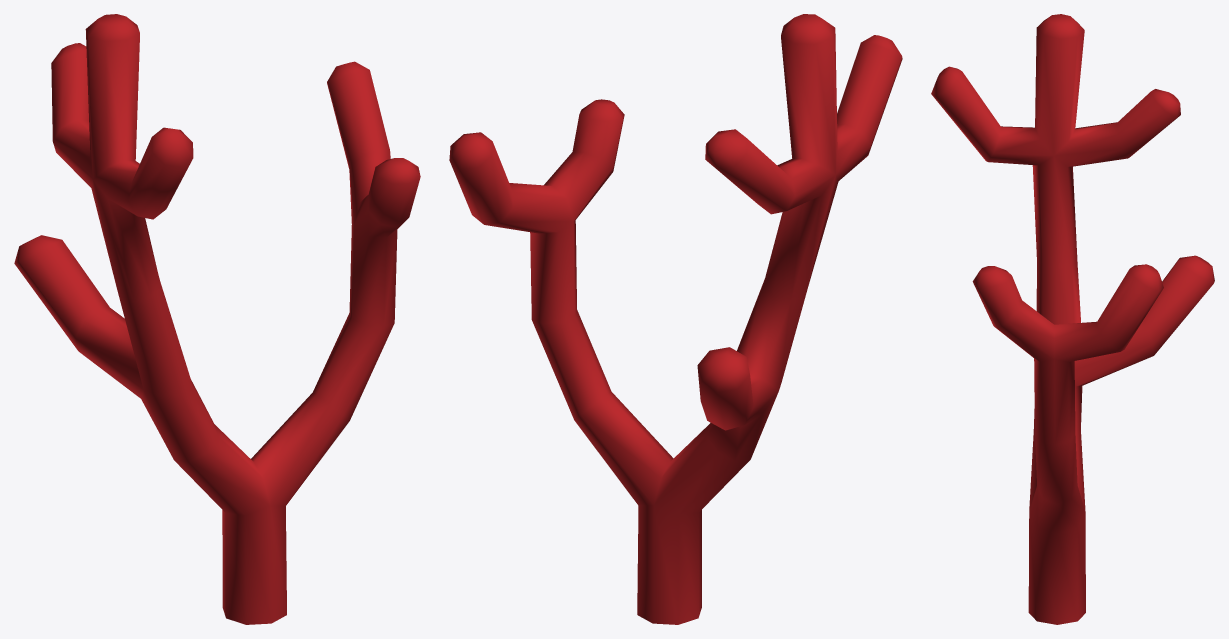
The model's file is Sea_plant_1_5.fbx.
The picture shows the model from 3 angles, left to right: view 1: azimuth 30°, elevation 25°; view 2: azimuth 150°, elevation 25°; view 3: azimuth 270°, elevation 25°; orthographic projection. The views are drawn at different scales.
Visible parts, largest first — view 1: Sea_plant_1_5; view 2: Sea_plant_1_5; view 3: Sea_plant_1_5.
Boxes of the visible parts, x1,y1,x2,y2 form: Sea_plant_1_5: (14, 14, 420, 624); Sea_plant_1_5: (449, 14, 902, 624); Sea_plant_1_5: (931, 14, 1214, 624).
Size of the model in its own units: 0.7313 by 1.31 by 0.6294.
